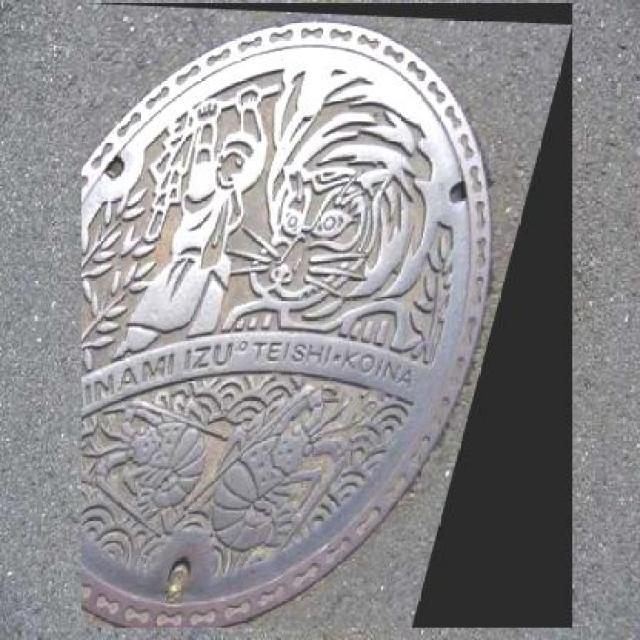Manhole: (82, 4, 572, 628)
